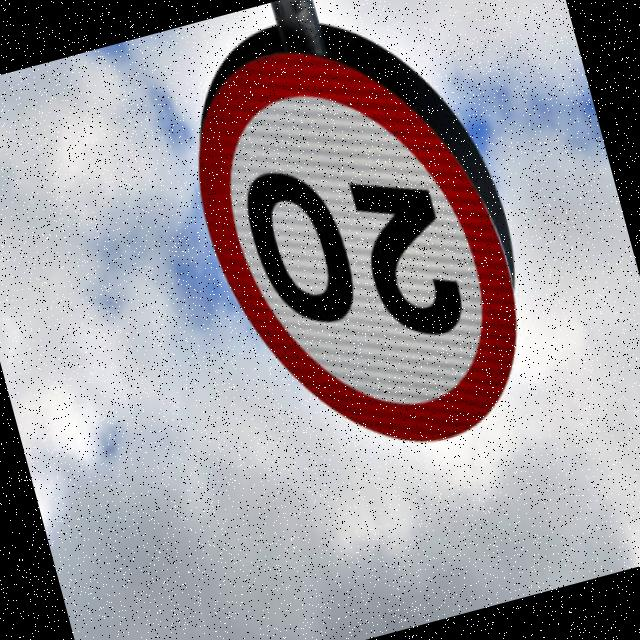speed_limit_20: (157, 0, 564, 514)
